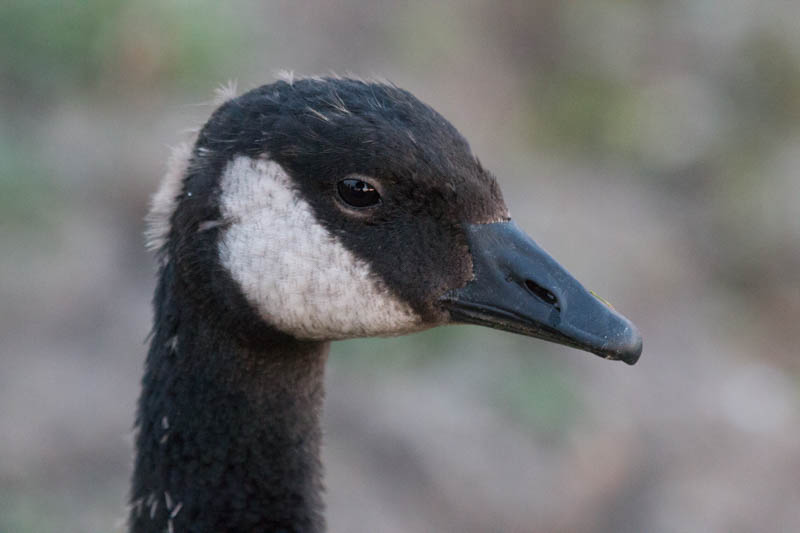goose-head: (152, 76, 642, 365)
